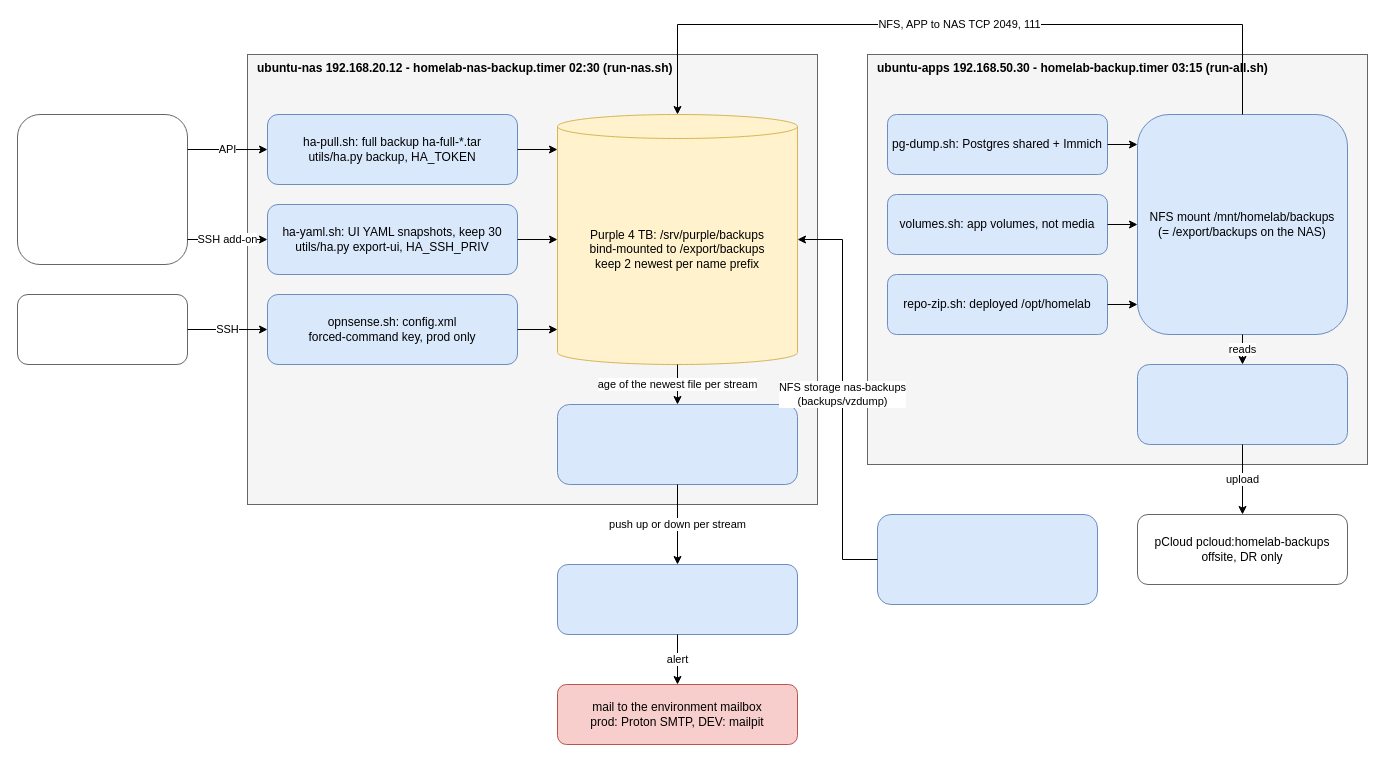
Some shapes in this 1385 by 762 pixel diagram are drawn without their labels. Each missing label, with the centre of its shape:
check-fresh.py homelab-backup-check.timer 06:00 max ages: config/monitoring.yml: (x=677, y=444)
Home Assistant T620 192.168.20.13 (DEV: HAOS twin): (x=102, y=189)
OPNsense 192.168.20.1: (x=102, y=329)
Proxmox 192.168.20.20 job homelab-vms 04:30 vzdump VM 101, 102, keep-last=2: (x=987, y=559)
rclone-offsite.sh, prod only copies the tree except media writes .offsite-ok: (x=1242, y=404)
Uptime Kuma on Home Assistant :3001 one push monitor per stream: (x=677, y=599)
